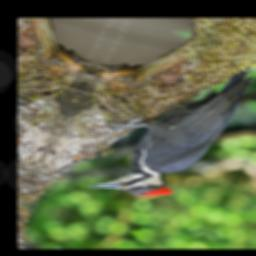Woodpecker: (74, 42, 256, 214)
